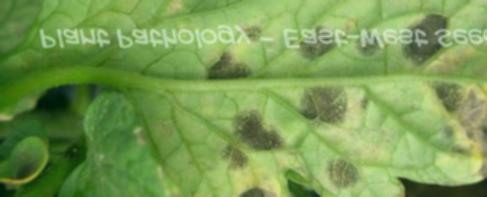Tomato mold leaf: (10, 0, 487, 197)
